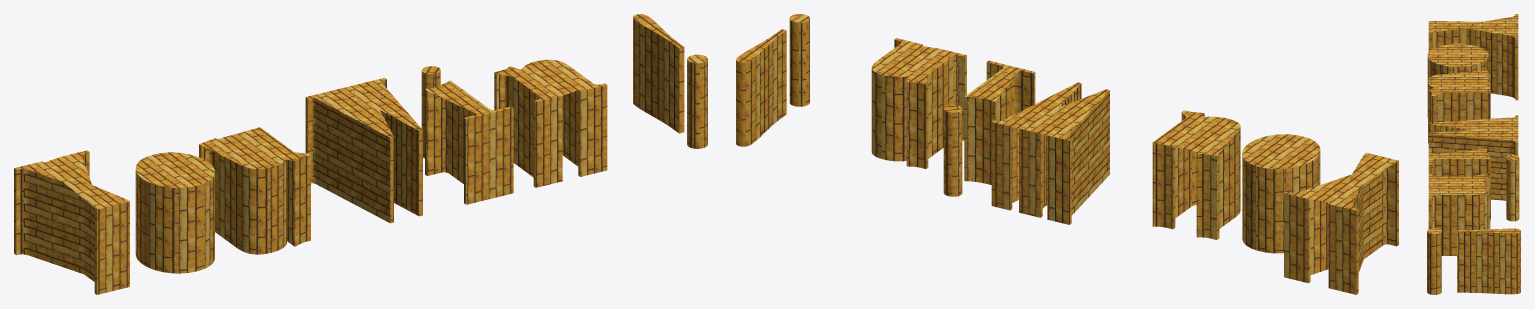
File: YouWin.FBX
3 renders of one model, left to right at view 1: azimuth 30°, elevation 25°; view 2: azimuth 150°, elevation 25°; view 3: azimuth 270°, elevation 25°, orthographic. The views are drawn at different scales.
Parts seen in each view (by area): view 1: You Win!; view 2: You Win!; view 3: You Win!.
Boxes of the visible parts, bbox=[...] form: You Win!: bbox=[14, 14, 707, 294]; You Win!: bbox=[736, 14, 1398, 294]; You Win!: bbox=[1427, 14, 1520, 294].
Bounding box in the file's own units: 3.88 × 0.5 × 0.699.
Materials: 1 (1 with a texture image).
